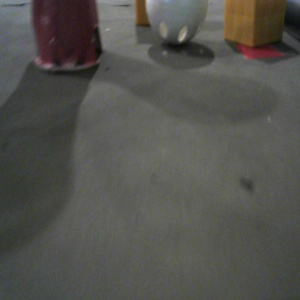right: (34, 1, 105, 74)
